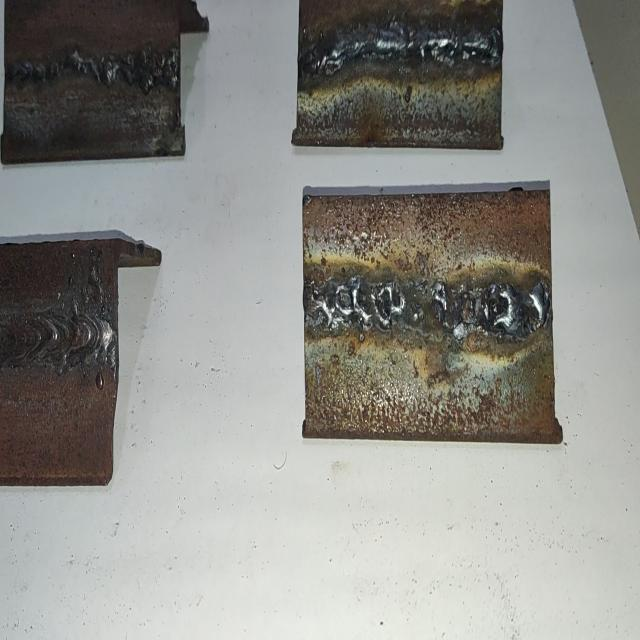Defect: (444, 268, 550, 344), (312, 273, 402, 333)
Welding Line: (302, 18, 500, 78), (8, 47, 178, 87), (1, 312, 112, 363)
Workpiece: (303, 190, 556, 442), (297, 0, 504, 144), (0, 234, 117, 483), (4, 0, 182, 160)
